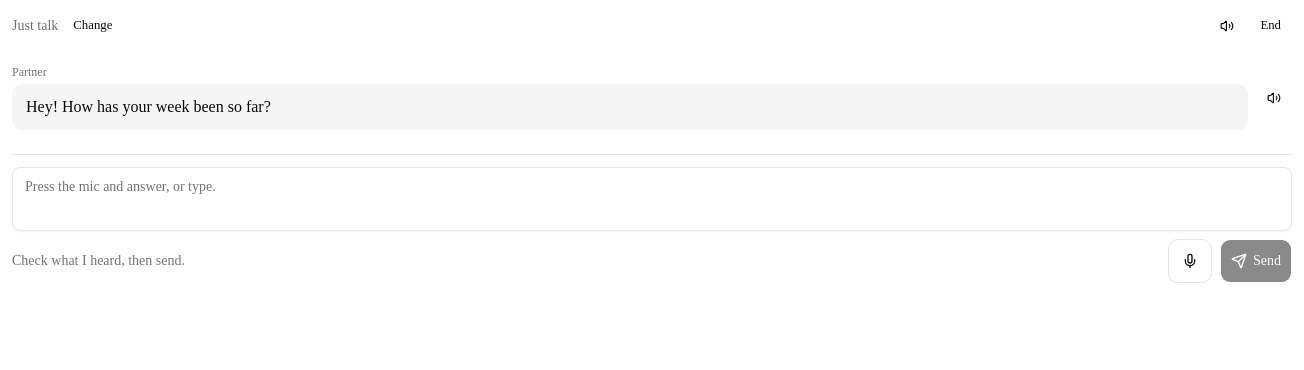
Test case: TalkPanel › keeps the words and adds no turn when the partner fails to answer
The image size is (1304, 370).
Click the button with test id "change".
click(93, 26)  # box left=62, top=12, right=123, bottom=40
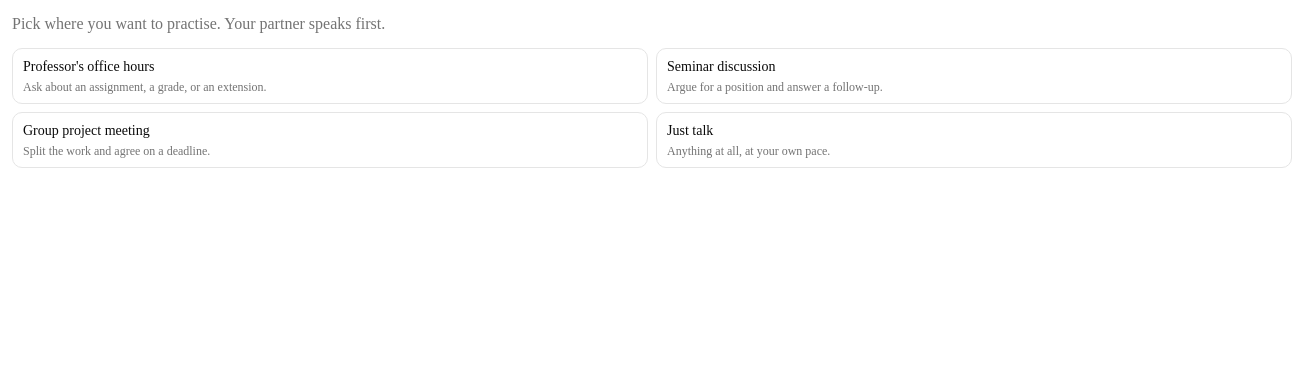
Click the button with test id "scenario-office-hours".
click(89, 66)  # box left=12, top=48, right=648, bottom=104
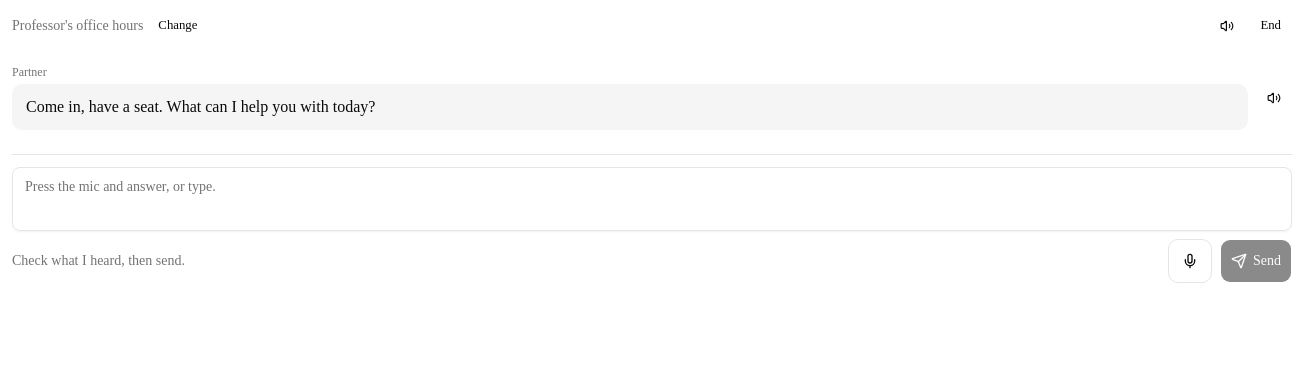
Type "Hello there." into the text box with test id "answer".
click(652, 199); type("Hello there.")  # box left=12, top=167, right=1292, bottom=231
Then press Enter
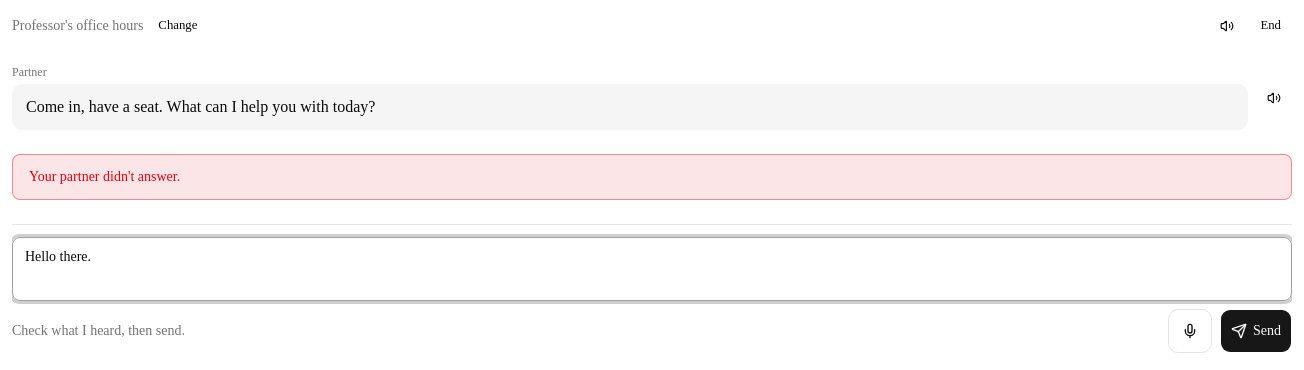
Now the message with test id "talk-notice" reads "Your partner didn't answer.", box left=29, top=169, right=180, bottom=184
